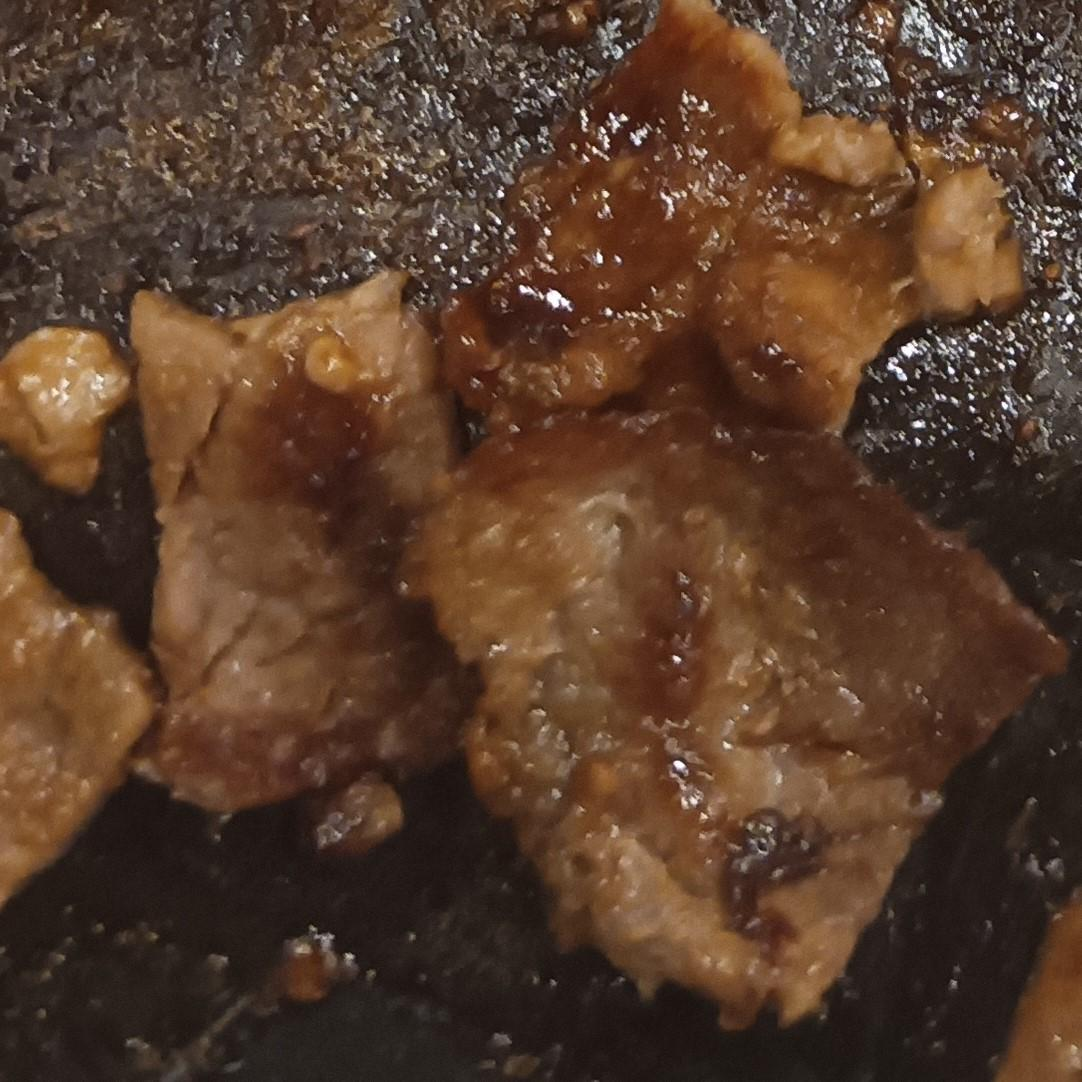Well-Cooked: (423, 408, 1065, 1029), (442, 0, 1032, 448), (131, 272, 464, 820), (0, 506, 164, 918), (0, 328, 134, 499)
